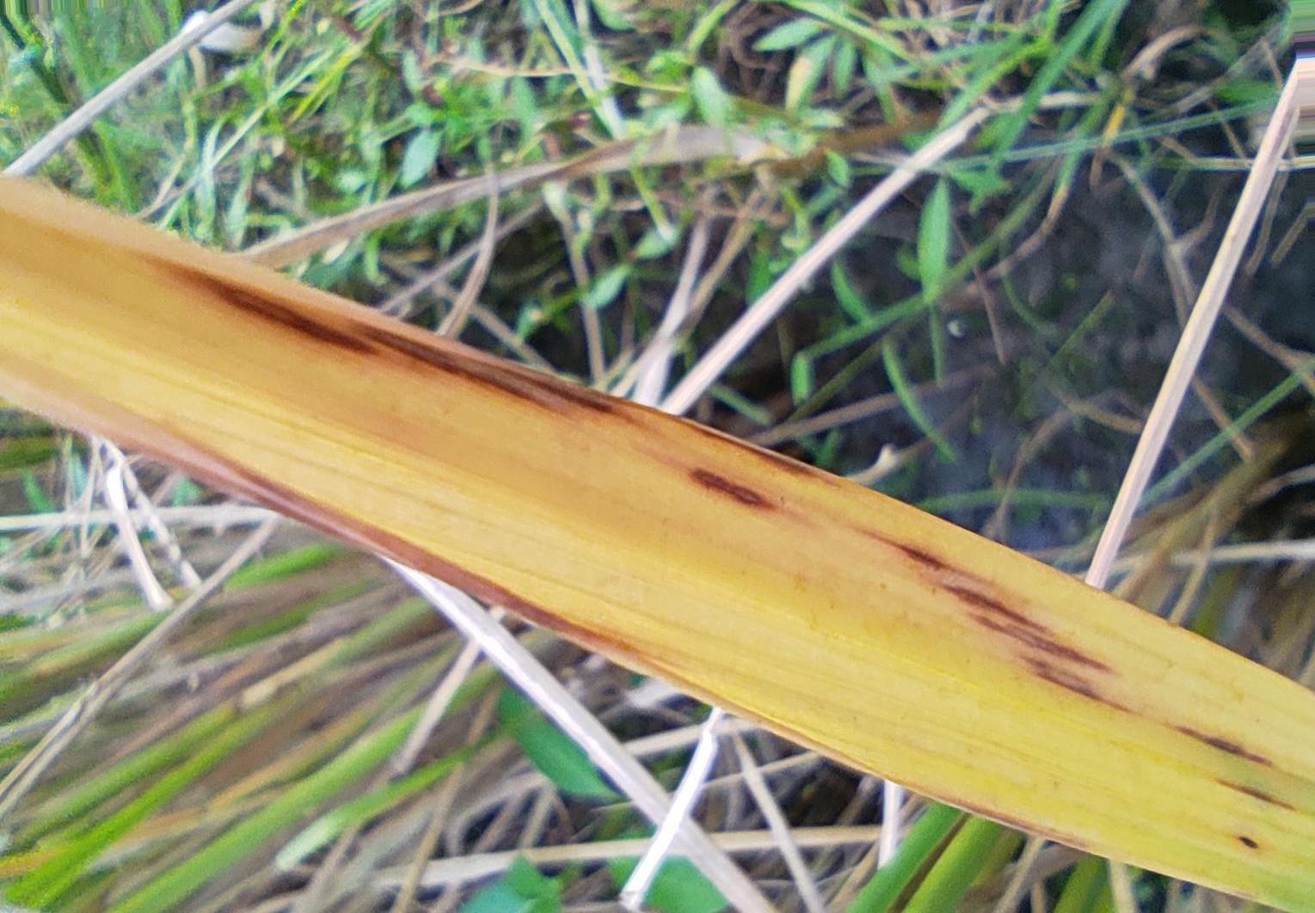LEAF: (0, 178, 1314, 912)
NBS: (348, 321, 625, 413), (169, 264, 380, 356), (967, 611, 1115, 674), (1019, 656, 1132, 715), (937, 583, 1045, 633), (859, 528, 958, 572), (1172, 725, 1273, 768), (689, 466, 775, 510), (1216, 778, 1296, 810), (1237, 837, 1258, 849)
